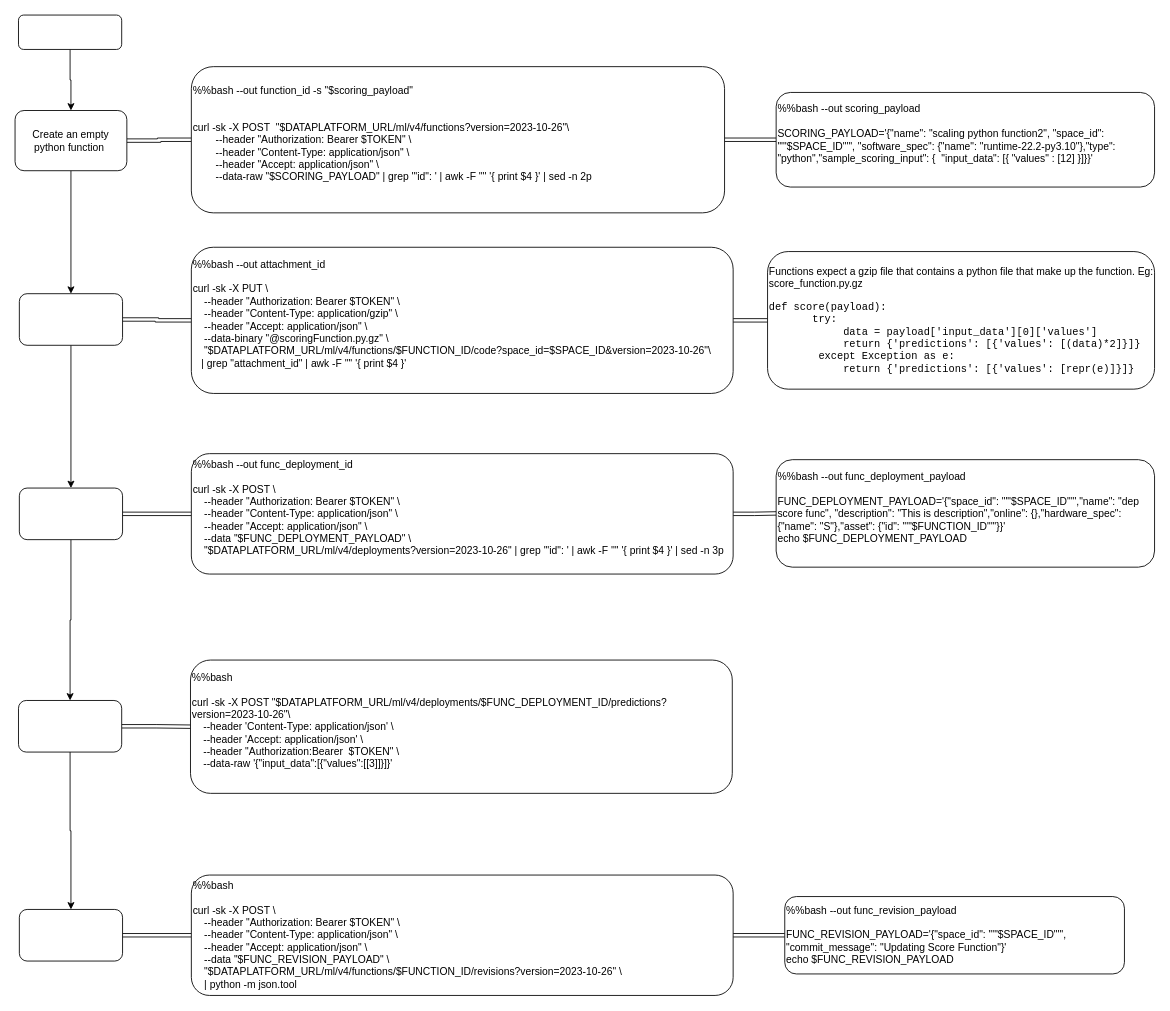
The diagram is 1170 pixels wide and 1011 high, and some of its shapes have lost their labels. The shapes that lost their labels are listed below. From the top down, each one's box as (x1, y1, x2, y2) in pixels, then its label:
(18, 14, 122, 49): Get Deployment Space ID
(18, 293, 123, 345): Upload/associate code to the python function
(18, 487, 123, 540): Deploy the python function (online/batch)
(18, 700, 122, 752): Call score/prediction
(18, 909, 123, 961): Any update - create function revision
